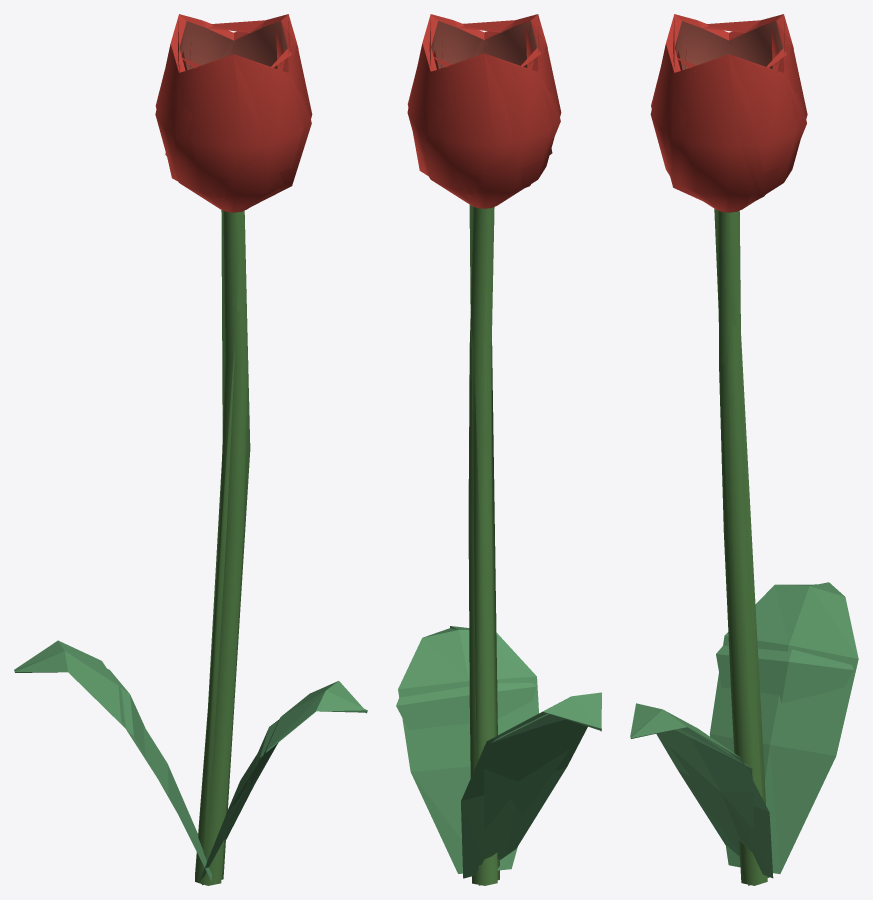
File: tulip_red.glb
The picture shows the model from 3 angles, left to right: view 1: azimuth 30°, elevation 25°; view 2: azimuth 150°, elevation 25°; view 3: azimuth 270°, elevation 25°; orthographic projection.
Visible parts, largest first — view 1: petal_red_nl, body__far, stem, leaf_nl; view 2: body__far, leaf_nl, petal_red_nl, stem; view 3: leaf_nl, body__far, petal_red_nl, stem.
Part boxes in pixels (x1=…): petal_red_nl: x1=155, y1=14, x2=312, y2=212; body__far: x1=15, y1=20, x2=362, y2=885; stem: x1=195, y1=210, x2=247, y2=885; leaf_nl: x1=14, y1=640, x2=367, y2=880; body__far: x1=396, y1=14, x2=601, y2=885; leaf_nl: x1=398, y1=626, x2=601, y2=878; petal_red_nl: x1=407, y1=14, x2=561, y2=208; stem: x1=468, y1=207, x2=497, y2=885; leaf_nl: x1=630, y1=582, x2=858, y2=878; body__far: x1=631, y1=20, x2=853, y2=885; petal_red_nl: x1=650, y1=14, x2=807, y2=212; stem: x1=718, y1=211, x2=767, y2=885.
Size of the model in its own units: 5.8 by 18.72 by 4.51.
